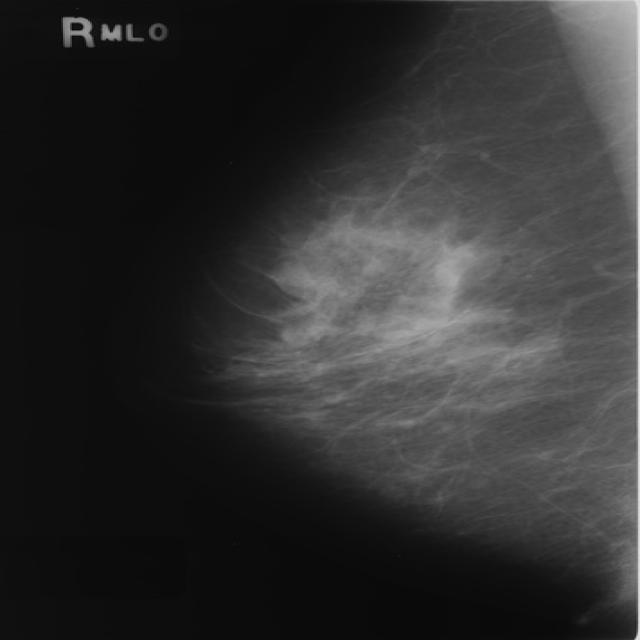tumour: (270, 258, 342, 299)
